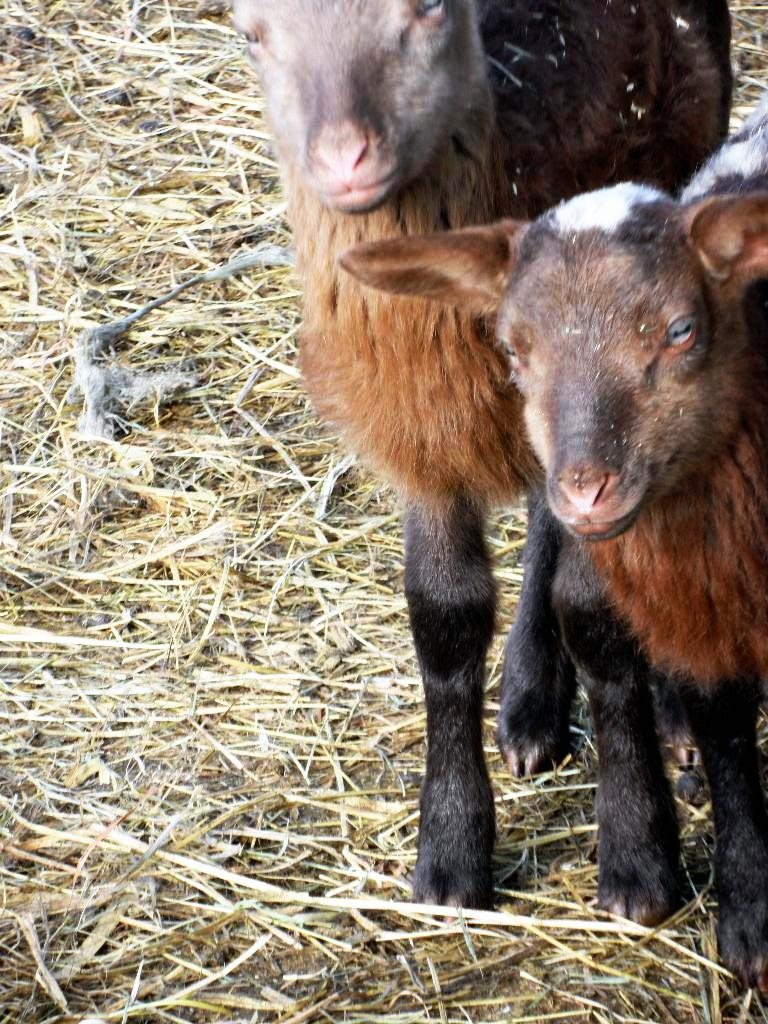Sheep: (198, 0, 738, 912), (482, 170, 768, 963)
